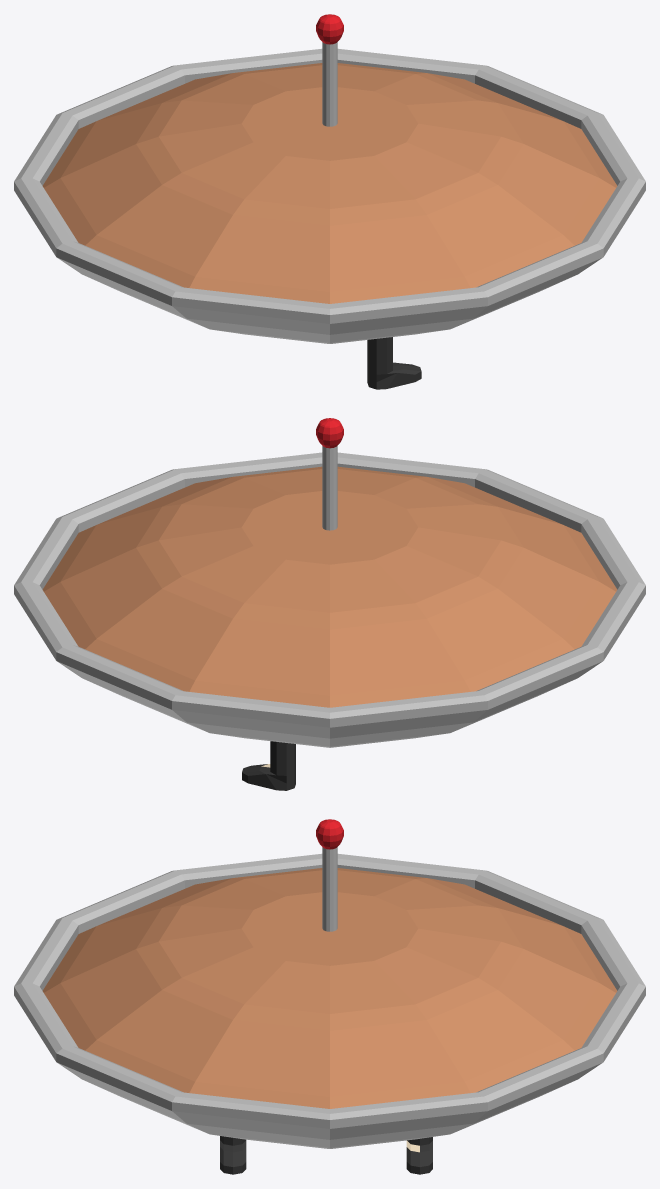
File: pie_model.glb
3 renders of one model, top to bottom at view 1: azimuth 30°, elevation 25°; view 2: azimuth 150°, elevation 25°; view 3: azimuth 270°, elevation 25°, orthographic.
Visible parts, largest first — view 1: Cylinder, legs; view 2: Cylinder, legs; view 3: Cylinder, legs.
Part boxes in pixels (x1,y1,x2,y2): Cylinder: (14, 14, 645, 343); legs: (367, 337, 421, 389); Cylinder: (14, 418, 645, 747); legs: (242, 741, 295, 790); Cylinder: (14, 819, 645, 1148); legs: (220, 1136, 432, 1174).
Size of the model in its own units: 3.72 by 2.17 by 3.72.
